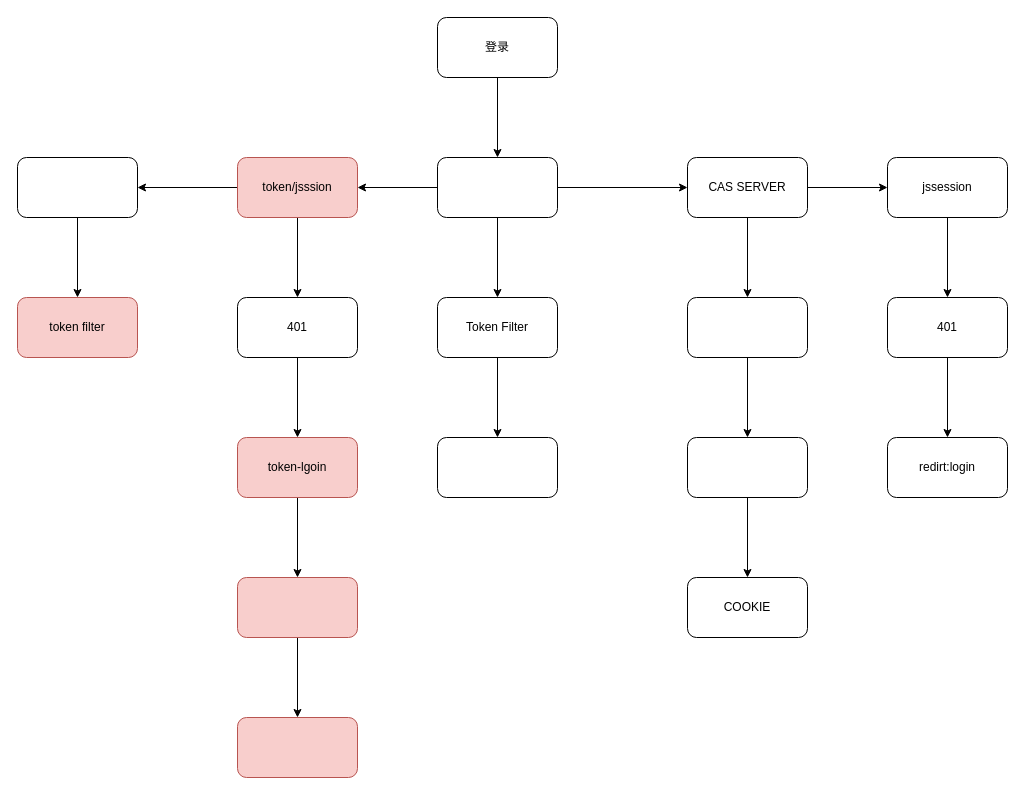
The diagram is 1025 pixels wide and 795 high, and some of its shapes have lost their labels. Each missing label, with the centre of its shape:
"CAS Filter" belongs at pixel 497 187.
"LOGIN" belongs at pixel 747 327.
"TICKET" belongs at pixel 747 467.
"token" belongs at pixel 497 467.
"token realm" belongs at pixel 297 607.
"token/jsession" belongs at pixel 77 187.
